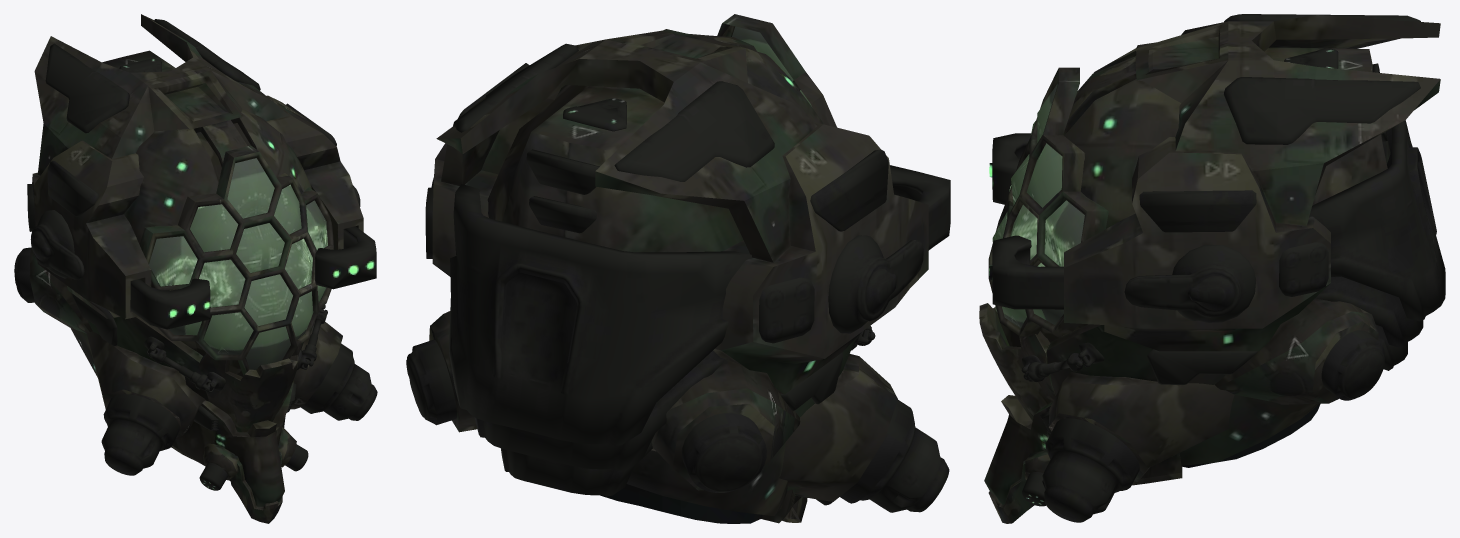
3 views of the same model, side by side, from view 1: azimuth 30°, elevation 25°; view 2: azimuth 150°, elevation 25°; view 3: azimuth 270°, elevation 25° (orthographic). The views are drawn at different scales.
Parts seen in each view (by area): view 1: defaultMaterial (×2); view 2: defaultMaterial (×2); view 3: defaultMaterial (×2).
Boxes of the visible parts, bbox=[...] form: defaultMaterial (×2): bbox=[14, 14, 377, 523]; defaultMaterial (×2): bbox=[406, 14, 950, 523]; defaultMaterial (×2): bbox=[979, 14, 1445, 523].
Size of the model in its own units: 1.64 by 2 by 1.75.
2 materials, 2 textured.
